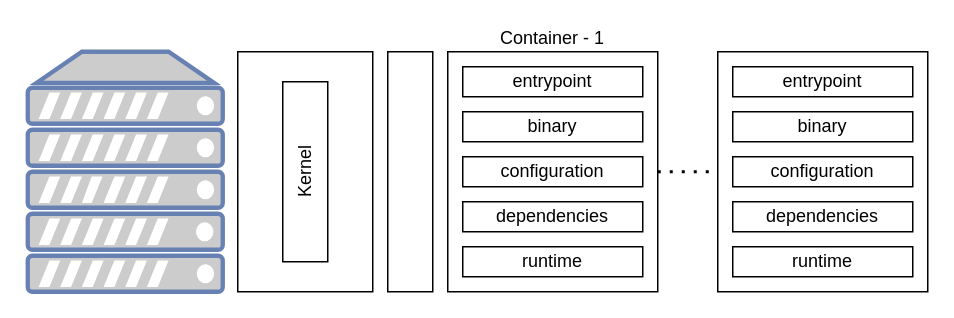
Image size: 954x318. Some labels were removed from this diagram. The shapes that lost their labels are listed below. From the top down, each one's box as (x1, y1, x2, y2) in pixels, then its label:
(236, 50, 373, 292): OS
(386, 50, 433, 292): Container runtime
(716, 50, 928, 292): Container - N
